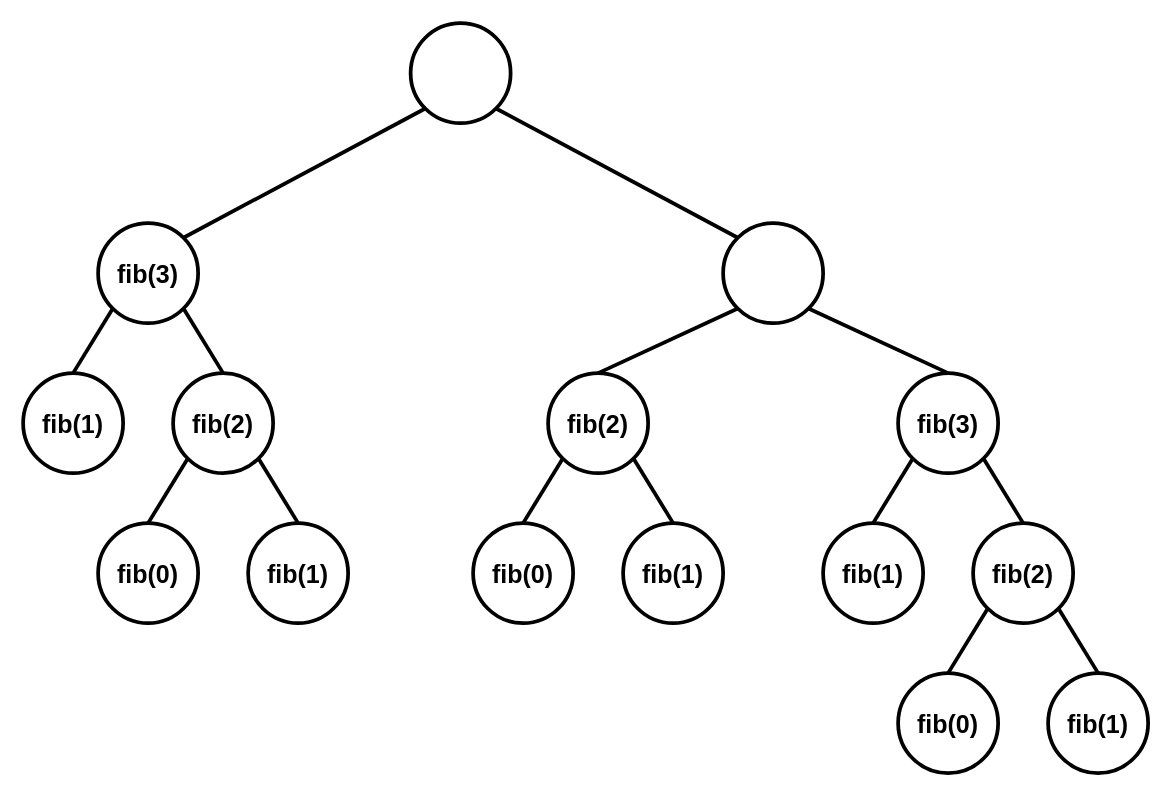
The diagram is 1171 pixels wide and 796 high, and some of its shapes have lost their labels. Here are the shapes that lost their labels. From the top down, the box of each, then its label:
(408, 21, 512, 124): fib(5)
(721, 221, 824, 324): fib(4)
